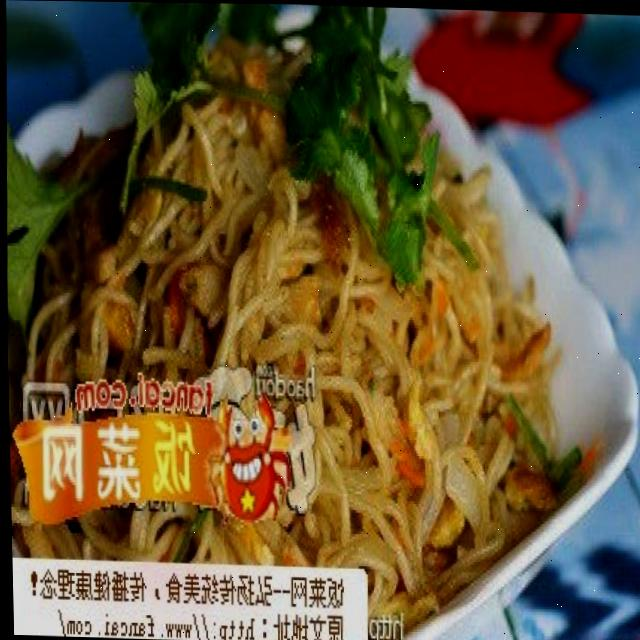面条主食: (0, 12, 568, 628)
